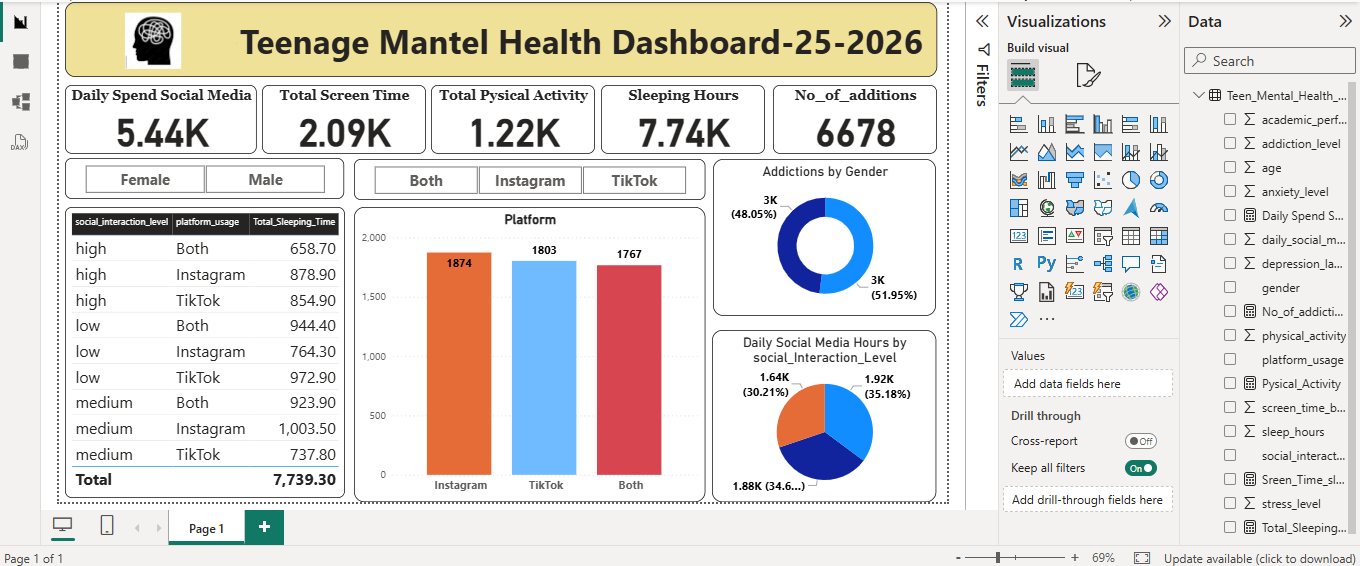

What the dashboard file says about the page in this screenshot:
{"tool":"powerbi","page":{"name":"Page 1","canvas":[1280,720],"ordinal":0},"visuals":[{"type":"textbox","box":[9.1,0,1256.2,107.9],"z":0},{"type":"image","box":[12.8,3.7,243.2,100.6],"z":1000},{"type":"card","title":"Daily Spend Social Media","fields":{"Values":["Teen_Mental_Health_Dataset.Daily Spend Social media"]},"box":[9.1,118.9,276.1,98.7],"z":2000},{"type":"card","title":"Total Screen Time","fields":{"Values":["Teen_Mental_Health_Dataset.Sreen_Time_sleep"]},"box":[292.6,118.9,235.9,98.7],"z":3000},{"type":"card","title":"Total Pysical Activity","fields":{"Values":["Teen_Mental_Health_Dataset.Pysical_Activity"]},"box":[535.8,118.9,235.9,98.7],"z":4000},{"type":"card","title":"Sleeping Hours","fields":{"Values":["Teen_Mental_Health_Dataset.Total_Sleeping_Time"]},"box":[780.8,118.9,235.9,98.7],"z":5000},{"type":"card","title":"No_of_additions","fields":{"Values":["Teen_Mental_Health_Dataset.No_of_addictions"]},"box":[1027.7,118.9,235.9,98.7],"z":6000},{"type":"donutChart","title":"Addictions by Gender","fields":{"Y":["Teen_Mental_Health_Dataset.No_of_addictions"],"Category":["Teen_Mental_Health_Dataset.gender"]},"box":[942.3,225.6,321.5,225.6],"z":7000},{"type":"pieChart","title":"Daily Social Media Hours by social_Interaction_Level","fields":{"Category":["Teen_Mental_Health_Dataset.social_interaction_level"],"Y":["Sum(Teen_Mental_Health_Dataset.daily_social_media_hours)"]},"box":[940.8,471.9,322.9,247.7],"z":8000},{"type":"slicer","title":"Gender","fields":{"Values":["Teen_Mental_Health_Dataset.gender"]},"box":[9.1,224.9,402.3,58.5],"z":9000},{"type":"columnChart","title":"Platform","fields":{"Category":["Teen_Mental_Health_Dataset.platform_usage"],"Y":["Sum(Teen_Mental_Health_Dataset.daily_social_media_hours)"]},"box":[424.7,294.9,505.8,424.7],"z":10000},{"type":"slicer","fields":{"Values":["Teen_Mental_Health_Dataset.platform_usage"]},"box":[424.7,225.6,505.8,59],"z":11000},{"type":"tableEx","fields":{"Values":["Teen_Mental_Health_Dataset.social_interaction_level","Teen_Mental_Health_Dataset.platform_usage","Teen_Mental_Health_Dataset.Total_Sleeping_Time"]},"box":[8.8,294.9,402.6,418.8],"z":12000}]}

Visuals, with their boxes on the page's 1280x720 design canvas (x1, y1, x2, y2). These are canvas units, not pixel positions in the 1360x566 screenshot, which may show the page scaled, cropped or inside an application window:
textbox: l=9, t=0, r=1265, b=108
image: l=13, t=4, r=256, b=104
"Daily Spend Social Media" card: l=9, t=119, r=285, b=218
"Total Screen Time" card: l=293, t=119, r=528, b=218
"Total Pysical Activity" card: l=536, t=119, r=772, b=218
"Sleeping Hours" card: l=781, t=119, r=1017, b=218
"No_of_additions" card: l=1028, t=119, r=1264, b=218
"Addictions by Gender" donutChart: l=942, t=226, r=1264, b=451
"Daily Social Media Hours by social_Interaction_Level" pieChart: l=941, t=472, r=1264, b=720
"Gender" slicer: l=9, t=225, r=411, b=283
"Platform" columnChart: l=425, t=295, r=930, b=720
slicer - Teen_Mental_Health_Dataset.platform_usage: l=425, t=226, r=930, b=285
tableEx - Teen_Mental_Health_Dataset.social_interaction_level x Teen_Mental_Health_Dataset.platform_usage: l=9, t=295, r=411, b=714
